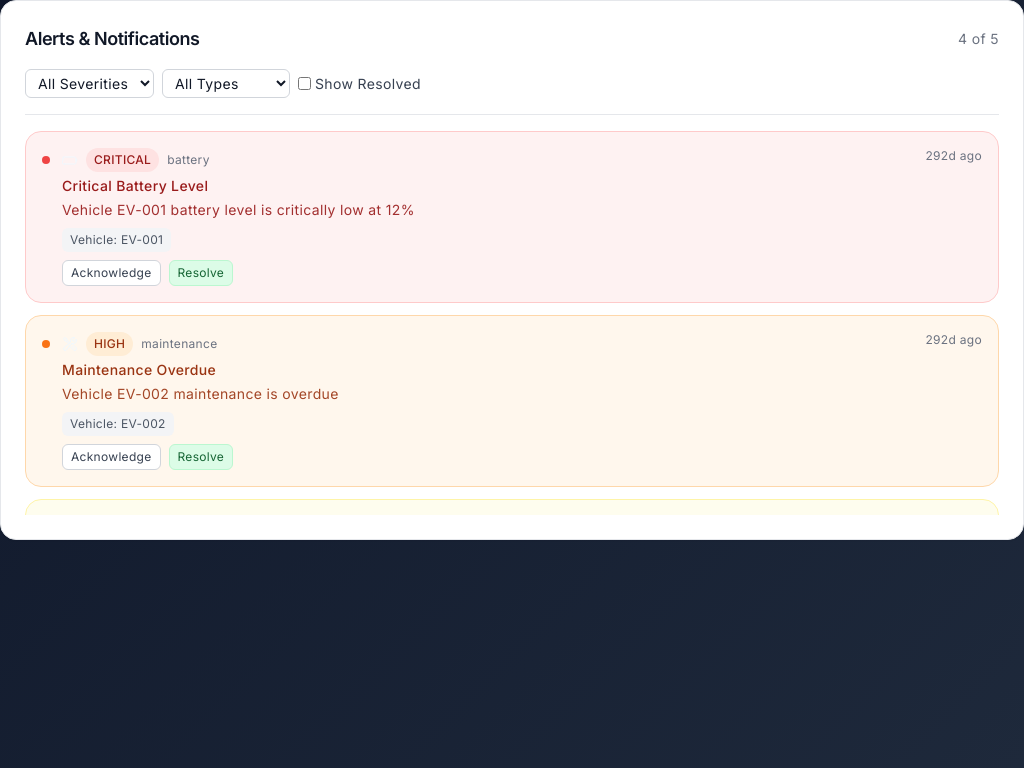
it: AlertPanel › Alert Display › shows resolved status for resolved alerts
# Enable showing resolved alerts
Click the checkbox labelled "Show Resolved" at (304, 84), box [298,77,311,90]
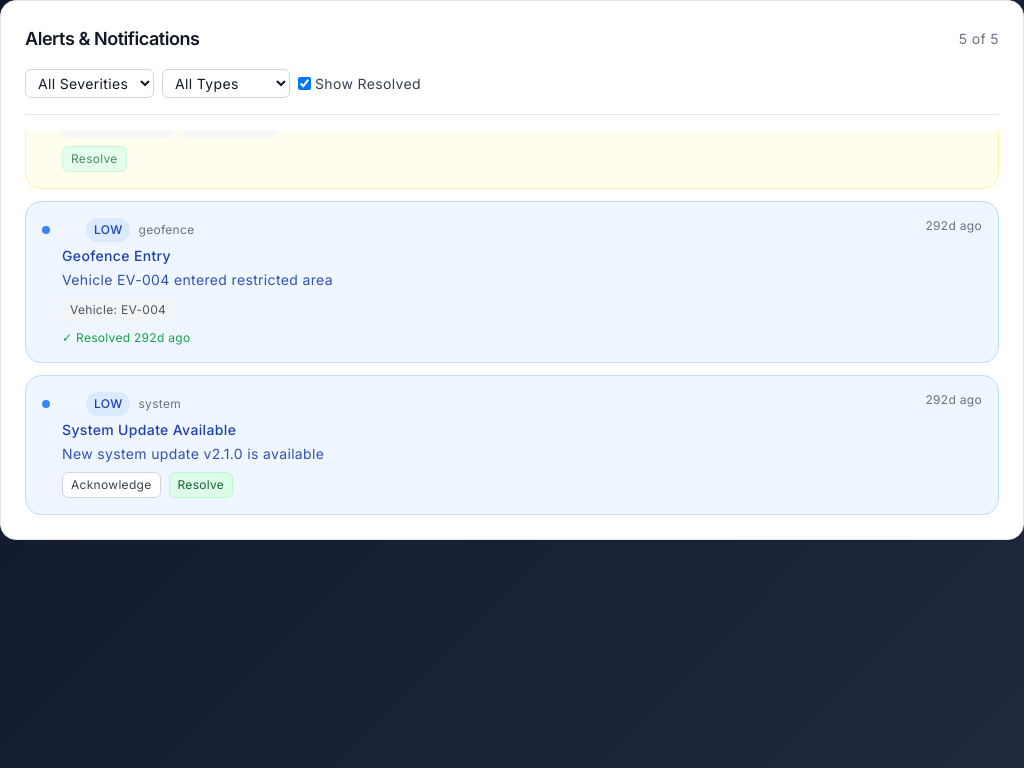
Now the text "✓ Resolved 292d ago" is shown, box [62,330,190,345]
